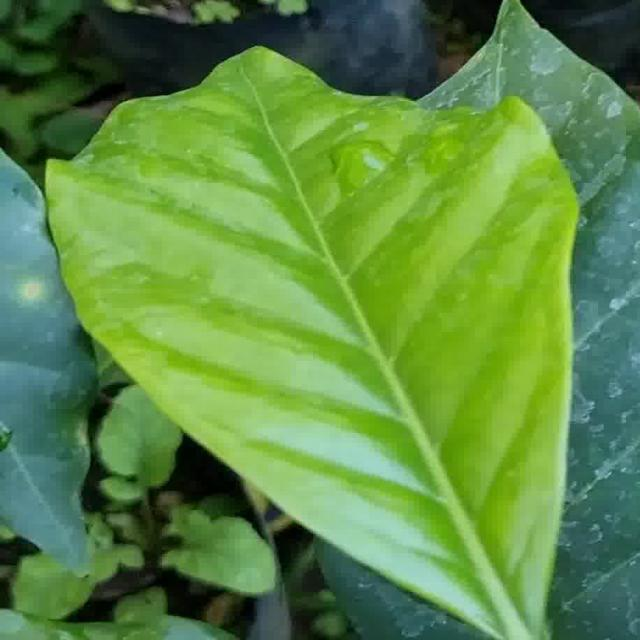leaves: (0, 13, 624, 638)
